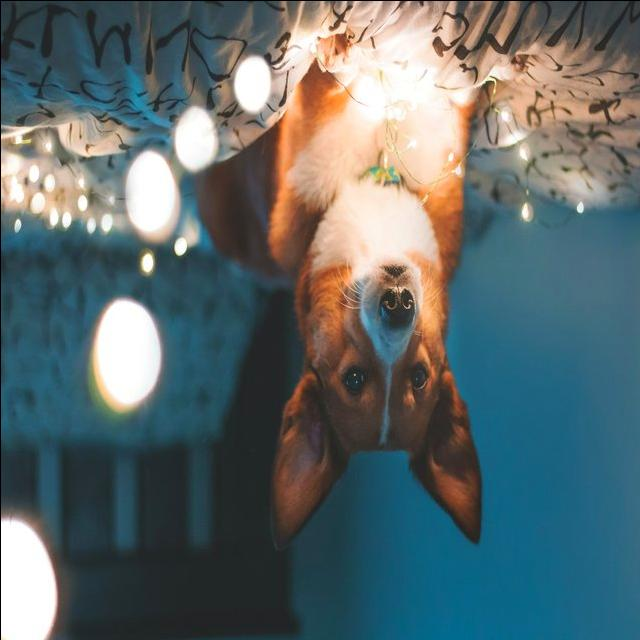corgi: (192, 42, 487, 552)
